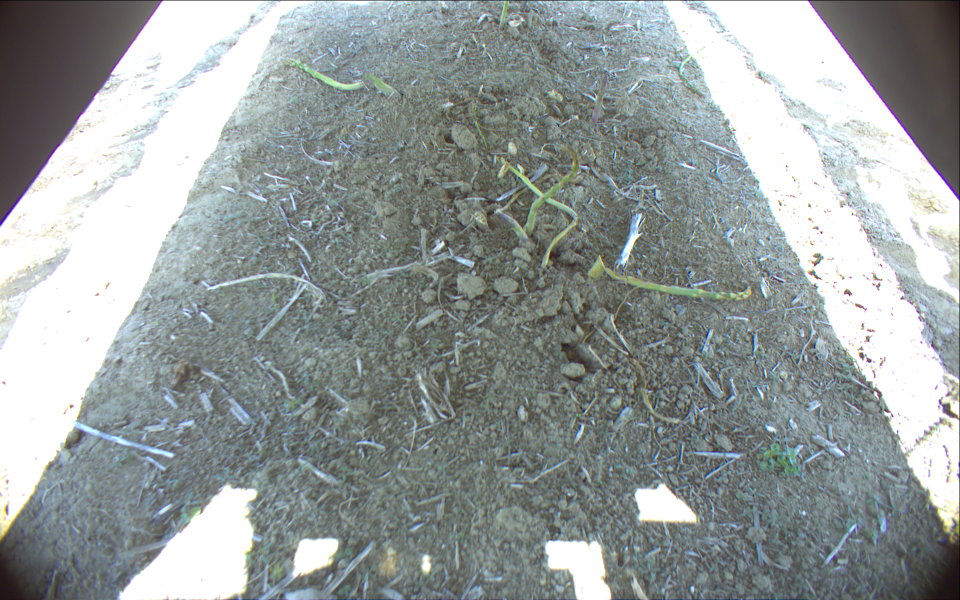aspa: (500, 156, 578, 271), (589, 256, 752, 300), (525, 146, 578, 232), (678, 28, 735, 98), (631, 358, 681, 425), (284, 55, 366, 91), (589, 73, 608, 130), (495, 209, 526, 240), (371, 73, 398, 97), (499, 1, 511, 29)
